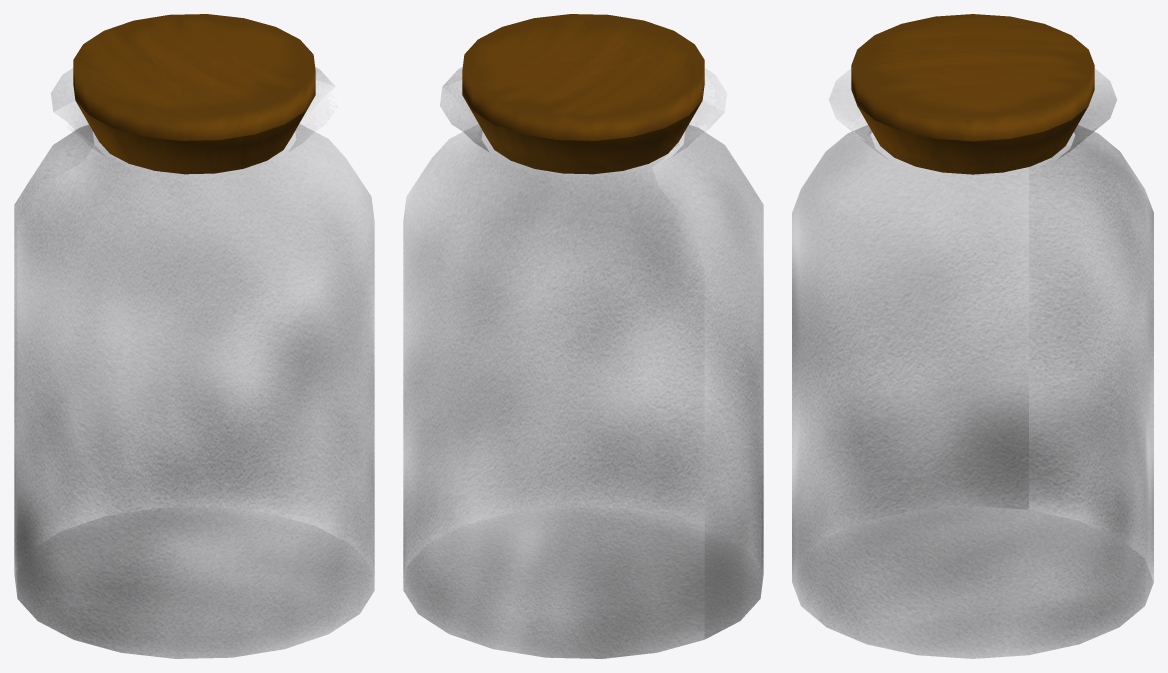
Rendered from jar.glb.
The picture shows the model from 3 angles, left to right: view 1: azimuth 30°, elevation 25°; view 2: azimuth 150°, elevation 25°; view 3: azimuth 270°, elevation 25°; orthographic projection.
Visible parts, largest first — view 1: polySurface1, polySurface2; view 2: polySurface1, polySurface2; view 3: polySurface1, polySurface2.
Boxes of the visible parts, x1,y1,x2,y2 form: polySurface1: (14,67,374,658); polySurface2: (73,14,315,174); polySurface1: (403,68,763,658); polySurface2: (462,14,704,174); polySurface1: (792,73,1153,658); polySurface2: (851,14,1094,174).
Bounding box in the file's own units: 0.5614 × 0.8856 × 0.5614.
1 material, 1 textured.
